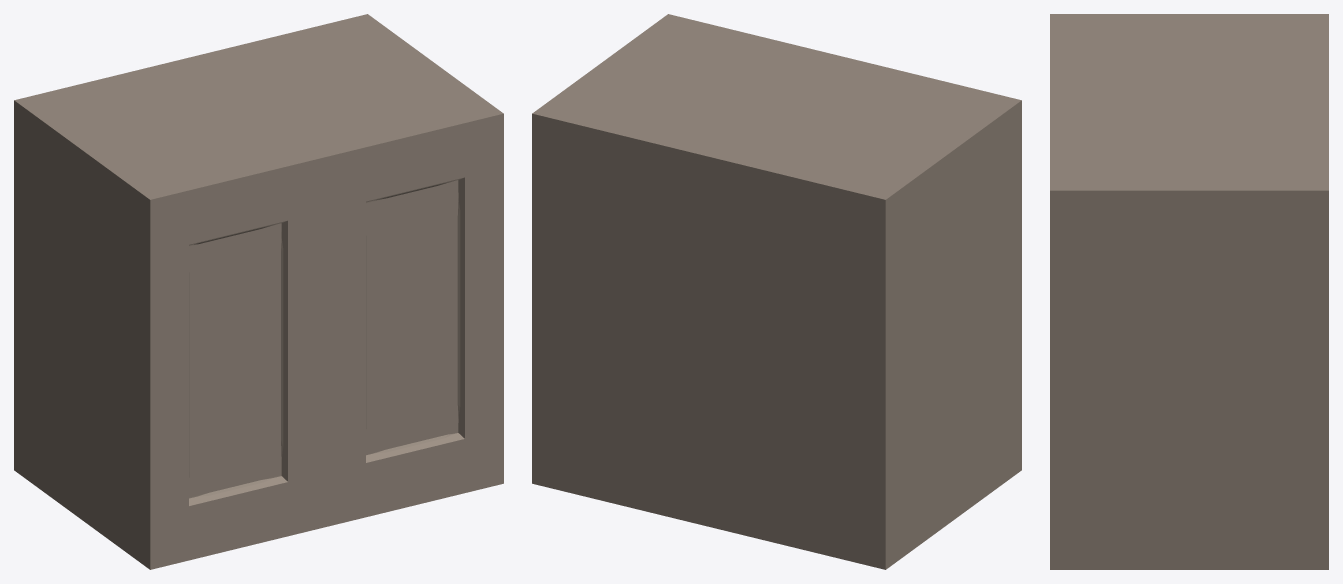
Rendered from Wall-Cabinet-18-High-12-Deep_std_001_W18in.glb.
The picture shows the model from 3 angles, left to right: view 1: azimuth 30°, elevation 25°; view 2: azimuth 150°, elevation 25°; view 3: azimuth 270°, elevation 25°; orthographic projection. The views are drawn at different scales.
Visible parts, largest first — view 1: Wall-Cabinet-18-High-12-Deep.std.001_W18in; view 2: Wall-Cabinet-18-High-12-Deep.std.001_W18in; view 3: Wall-Cabinet-18-High-12-Deep.std.001_W18in.
Part boxes in pixels (bbox=[...]): Wall-Cabinet-18-High-12-Deep.std.001_W18in: bbox=[14, 14, 503, 569]; Wall-Cabinet-18-High-12-Deep.std.001_W18in: bbox=[532, 14, 1021, 569]; Wall-Cabinet-18-High-12-Deep.std.001_W18in: bbox=[1050, 14, 1328, 569].
Size of the model in its own units: 0.4572 by 0.4572 by 0.3048.
